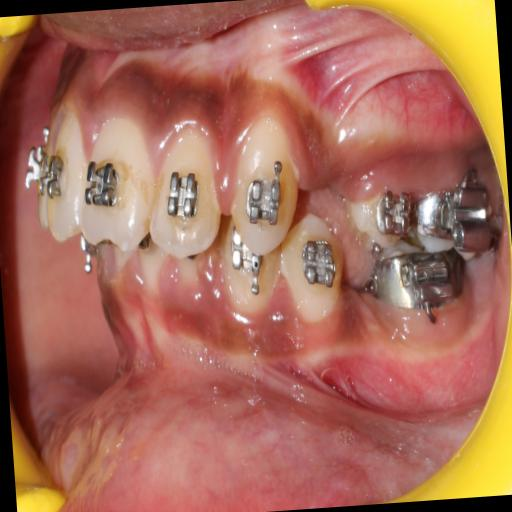correct_brace: (240, 157, 288, 229), (80, 148, 126, 220), (160, 158, 204, 232)
incorrect_brace: (146, 122, 224, 260)
